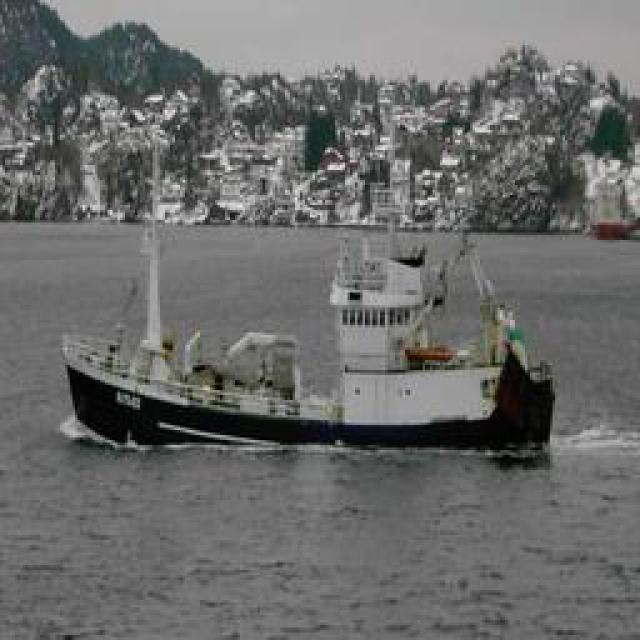Ship: (61, 176, 556, 454)
